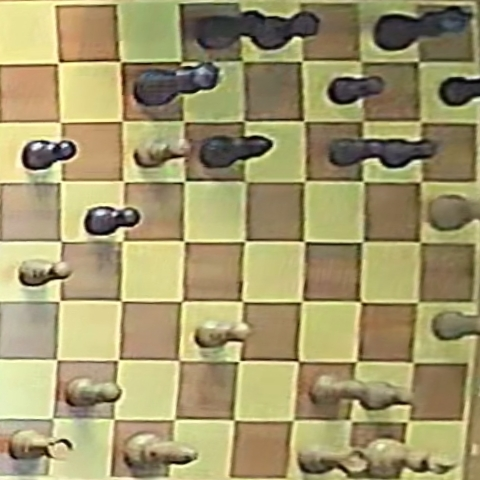black-bishop: (200, 135, 271, 168), (441, 75, 480, 106)
black-king: (375, 6, 472, 52)
black-pawn: (377, 137, 436, 168), (330, 137, 386, 168), (328, 75, 385, 105), (23, 139, 76, 171), (86, 206, 140, 236)
black-queen: (134, 62, 218, 106)
black-rook: (196, 10, 268, 50), (252, 11, 320, 50)
white-bishop: (123, 431, 197, 471)
white-king: (366, 438, 457, 475)
white-pawn: (311, 374, 369, 405), (134, 136, 190, 168), (357, 380, 415, 409), (66, 377, 121, 406), (195, 321, 252, 348), (20, 259, 72, 287), (433, 311, 479, 340)
white-queen: (428, 194, 480, 229)
white-rook: (299, 445, 368, 475), (9, 430, 73, 461)
